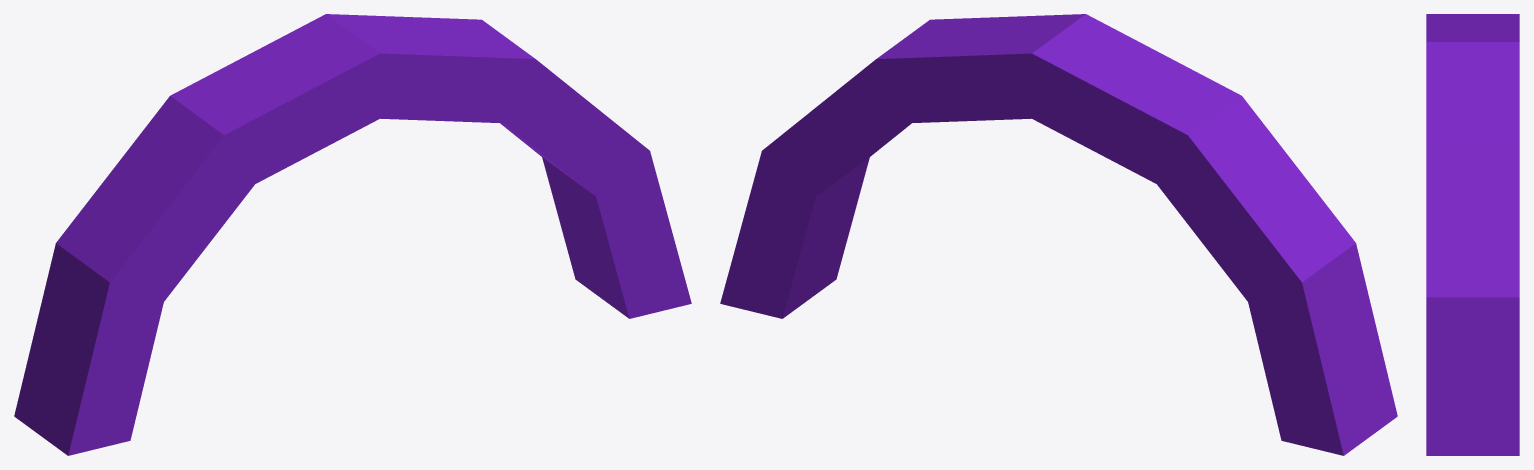
File: single_bridge.obj
3 renders of one model, left to right at view 1: azimuth 30°, elevation 25°; view 2: azimuth 150°, elevation 25°; view 3: azimuth 270°, elevation 25°, orthographic. The views are drawn at different scales.
Visible parts, largest first — view 1: object_5, object_6, object_4, object_3, object_1, object_2; view 2: object_5, object_6, object_4, object_3, object_1, object_2; view 3: object_1, object_2, object_3, object_4.
Part boxes in pixels (bbox=[...]): object_5: bbox=[56, 96, 254, 301]; object_6: bbox=[14, 243, 163, 455]; object_4: bbox=[170, 14, 379, 183]; object_3: bbox=[326, 14, 535, 123]; object_1: bbox=[542, 151, 691, 318]; object_2: bbox=[500, 59, 649, 196]; object_5: bbox=[1157, 96, 1355, 301]; object_6: bbox=[1248, 243, 1397, 455]; object_4: bbox=[1032, 14, 1241, 183]; object_3: bbox=[876, 14, 1085, 123]; object_1: bbox=[720, 151, 869, 318]; object_2: bbox=[762, 59, 911, 196]; object_1: bbox=[1426, 297, 1519, 455]; object_2: bbox=[1426, 145, 1519, 297]; object_3: bbox=[1426, 42, 1519, 145]; object_4: bbox=[1426, 14, 1519, 41].
Size of the model in its own units: 20 by 10 by 3.
